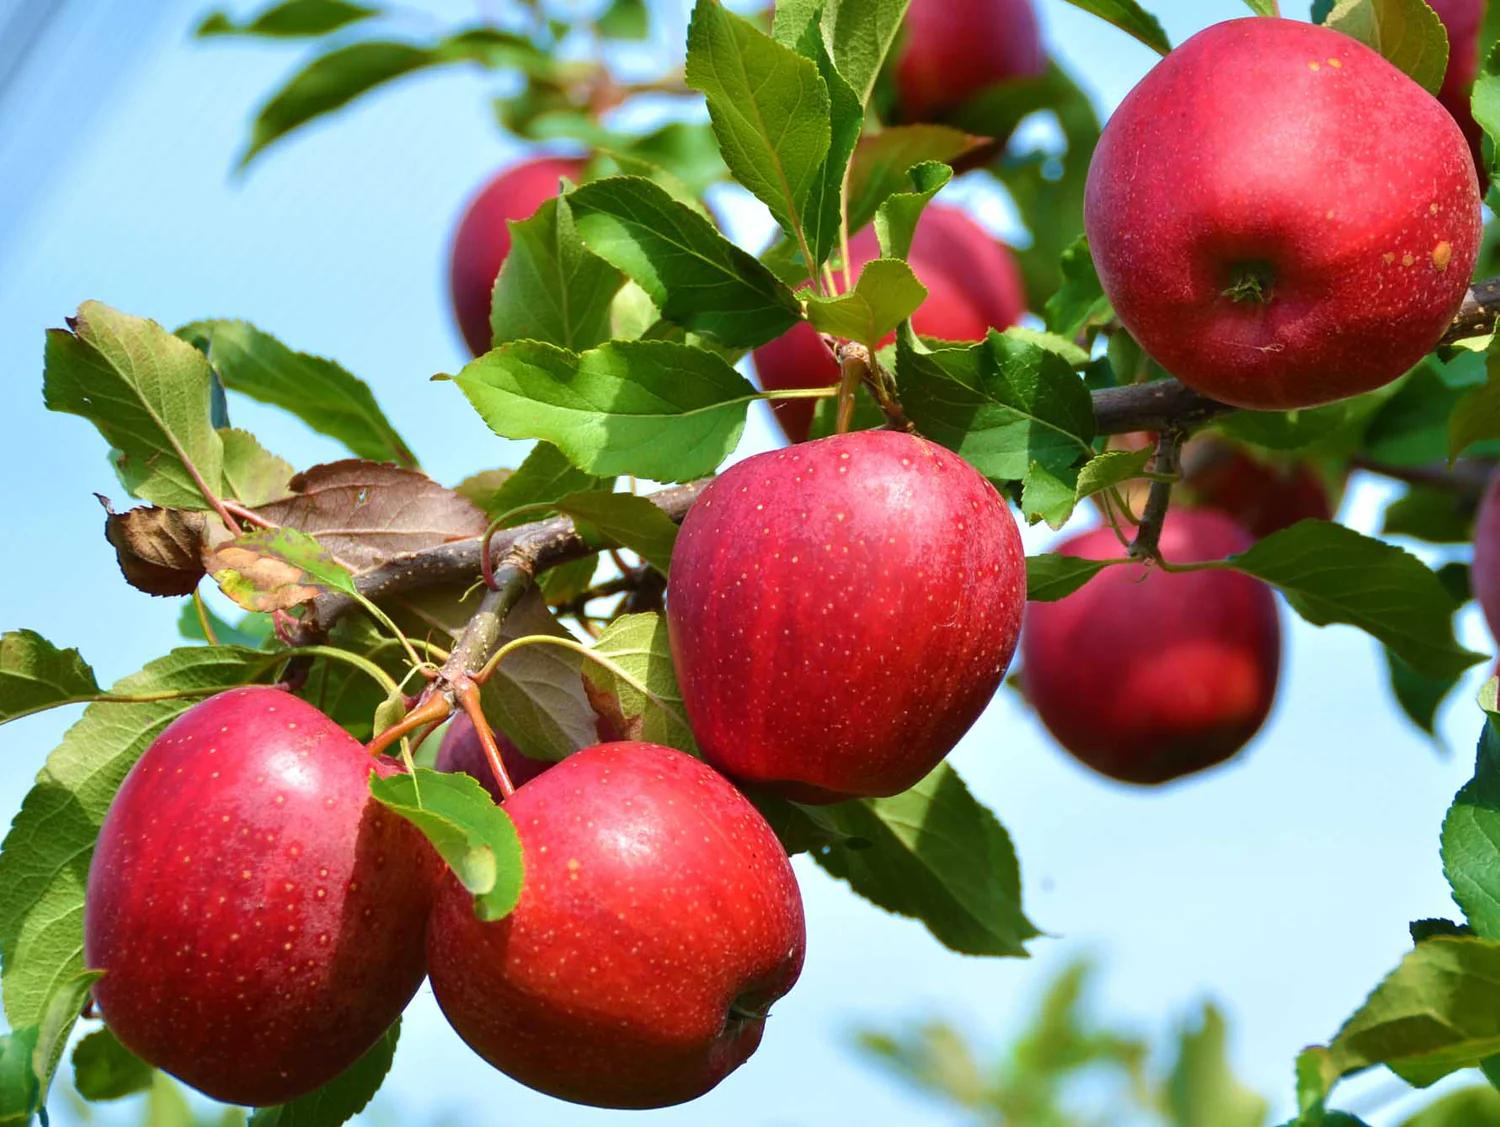apple: (1079, 8, 1482, 434), (406, 730, 826, 1113), (78, 678, 434, 1105), (654, 423, 1047, 809)
